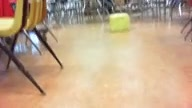cube: (110, 13, 130, 32)
